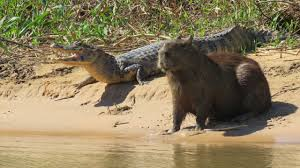capivara: (158, 33, 276, 135)
